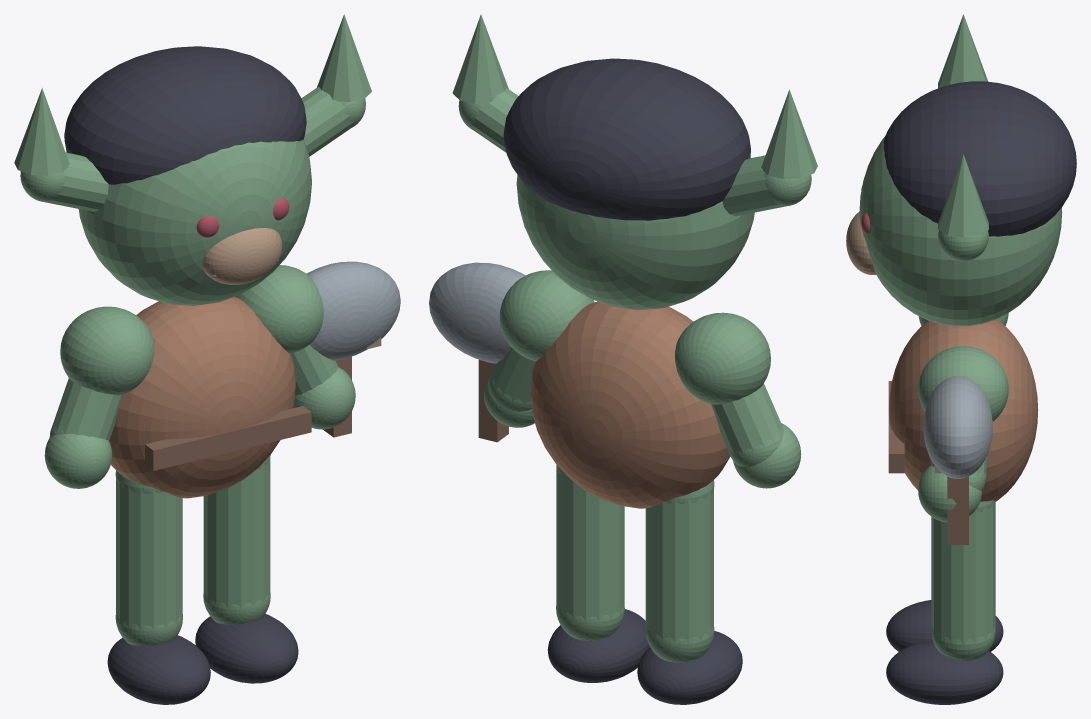
Rendered from monster_gutter_goblin.glb.
3 views of the same model, side by side, from view 1: azimuth 30°, elevation 25°; view 2: azimuth 150°, elevation 25°; view 3: azimuth 270°, elevation 25° (orthographic). The views are drawn at different scales.
Visible parts, largest first — view 1: goblin_tunic, goblin_head, goblin_hood, goblin_leg_-1_shaft, goblin_leg_1_shaft, goblin_cleaver_head, goblin_shoulder_-1, goblin_boot_-1, goblin_boot_1, goblin_shoulder_1, goblin_belt, goblin_snout (+11 smaller); view 2: goblin_hood, goblin_tunic, goblin_head, goblin_leg_-1_shaft, goblin_leg_1_shaft, goblin_shoulder_-1, goblin_cleaver_head, goblin_shoulder_1, goblin_boot_-1, goblin_boot_1, goblin_arm_-1_shaft, ear_tip_-1 (+11 smaller); view 3: goblin_hood, goblin_head, goblin_tunic, goblin_leg_1_shaft, goblin_cleaver_head, goblin_boot_1, goblin_shoulder_1, ear_tip_1, goblin_boot_-1, ear_tip_-1, goblin_hand_1, goblin_weapon_handle (+4 smaller).
Boxes of the visible parts, x1,y1,x2,y2 form: goblin_tunic: (109,297,295,498); goblin_head: (78,139,311,305); goblin_hood: (64,46,306,184); goblin_leg_-1_shaft: (116,477,182,630); goblin_leg_1_shaft: (203,457,270,609); goblin_cleaver_head: (307,261,400,360); goblin_shoulder_-1: (60,306,154,395); goblin_boot_-1: (107,635,210,704); goblin_boot_1: (195,614,298,683); goblin_shoulder_1: (235,265,323,353); goblin_belt: (145,406,311,470); goblin_snout: (202,228,282,284); goblin_hood: (503,58,750,220); goblin_tunic: (530,301,730,508); goblin_head: (516,156,754,309); goblin_leg_-1_shaft: (645,488,713,643); goblin_leg_1_shaft: (556,466,624,622); goblin_shoulder_-1: (674,312,770,404); goblin_cleaver_head: (429,262,525,363); goblin_shoulder_1: (499,270,594,361); goblin_boot_-1: (637,631,742,704); goblin_boot_1: (547,609,649,682); goblin_arm_-1_shaft: (711,383,783,456); ear_tip_-1: (761,89,817,179); goblin_hood: (883,81,1076,236); goblin_head: (859,136,1062,326); goblin_tunic: (888,319,1038,501); goblin_leg_1_shaft: (931,501,995,644); goblin_cleaver_head: (923,376,992,478); goblin_boot_1: (886,640,1003,704); goblin_shoulder_1: (918,346,1008,421); ear_tip_1: (938,154,988,237); goblin_boot_-1: (886,600,1003,651); ear_tip_-1: (938,14,988,88); goblin_hand_1: (918,465,981,522); goblin_weapon_handle: (947,476,968,544).
Bounding box in the file's own units: 1.55 × 2.46 × 0.865.
